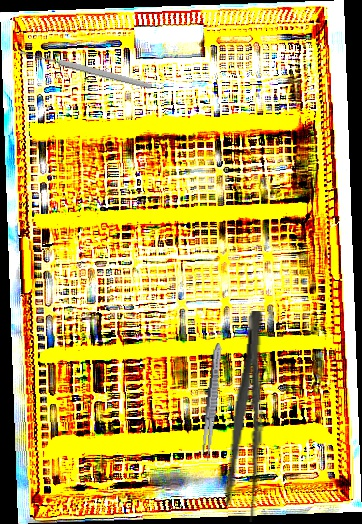Dressing Forceps: (222, 309, 273, 523), (199, 342, 225, 462)
Surgical Spoon: (19, 47, 153, 91)
